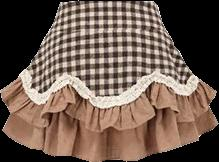Hemline: (0, 89, 217, 132), (1, 123, 218, 161)
Waistline: (23, 71, 197, 102), (59, 0, 154, 3)
